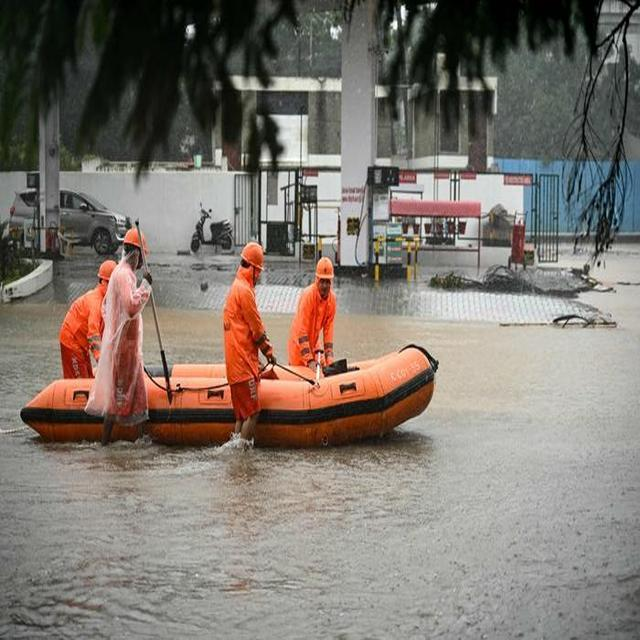Person-RiskLevel2: (102, 223, 166, 443), (221, 240, 273, 450), (58, 251, 110, 384), (288, 255, 337, 377)
